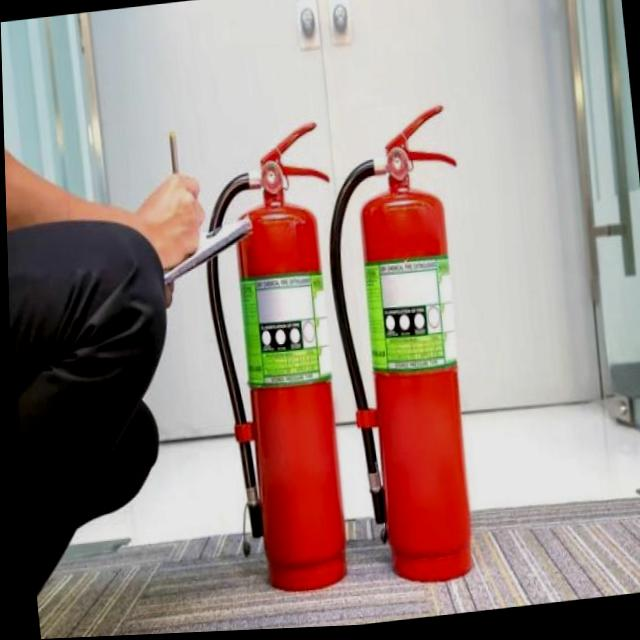FireExtinguisher: (308, 103, 497, 598), (183, 113, 369, 607)
